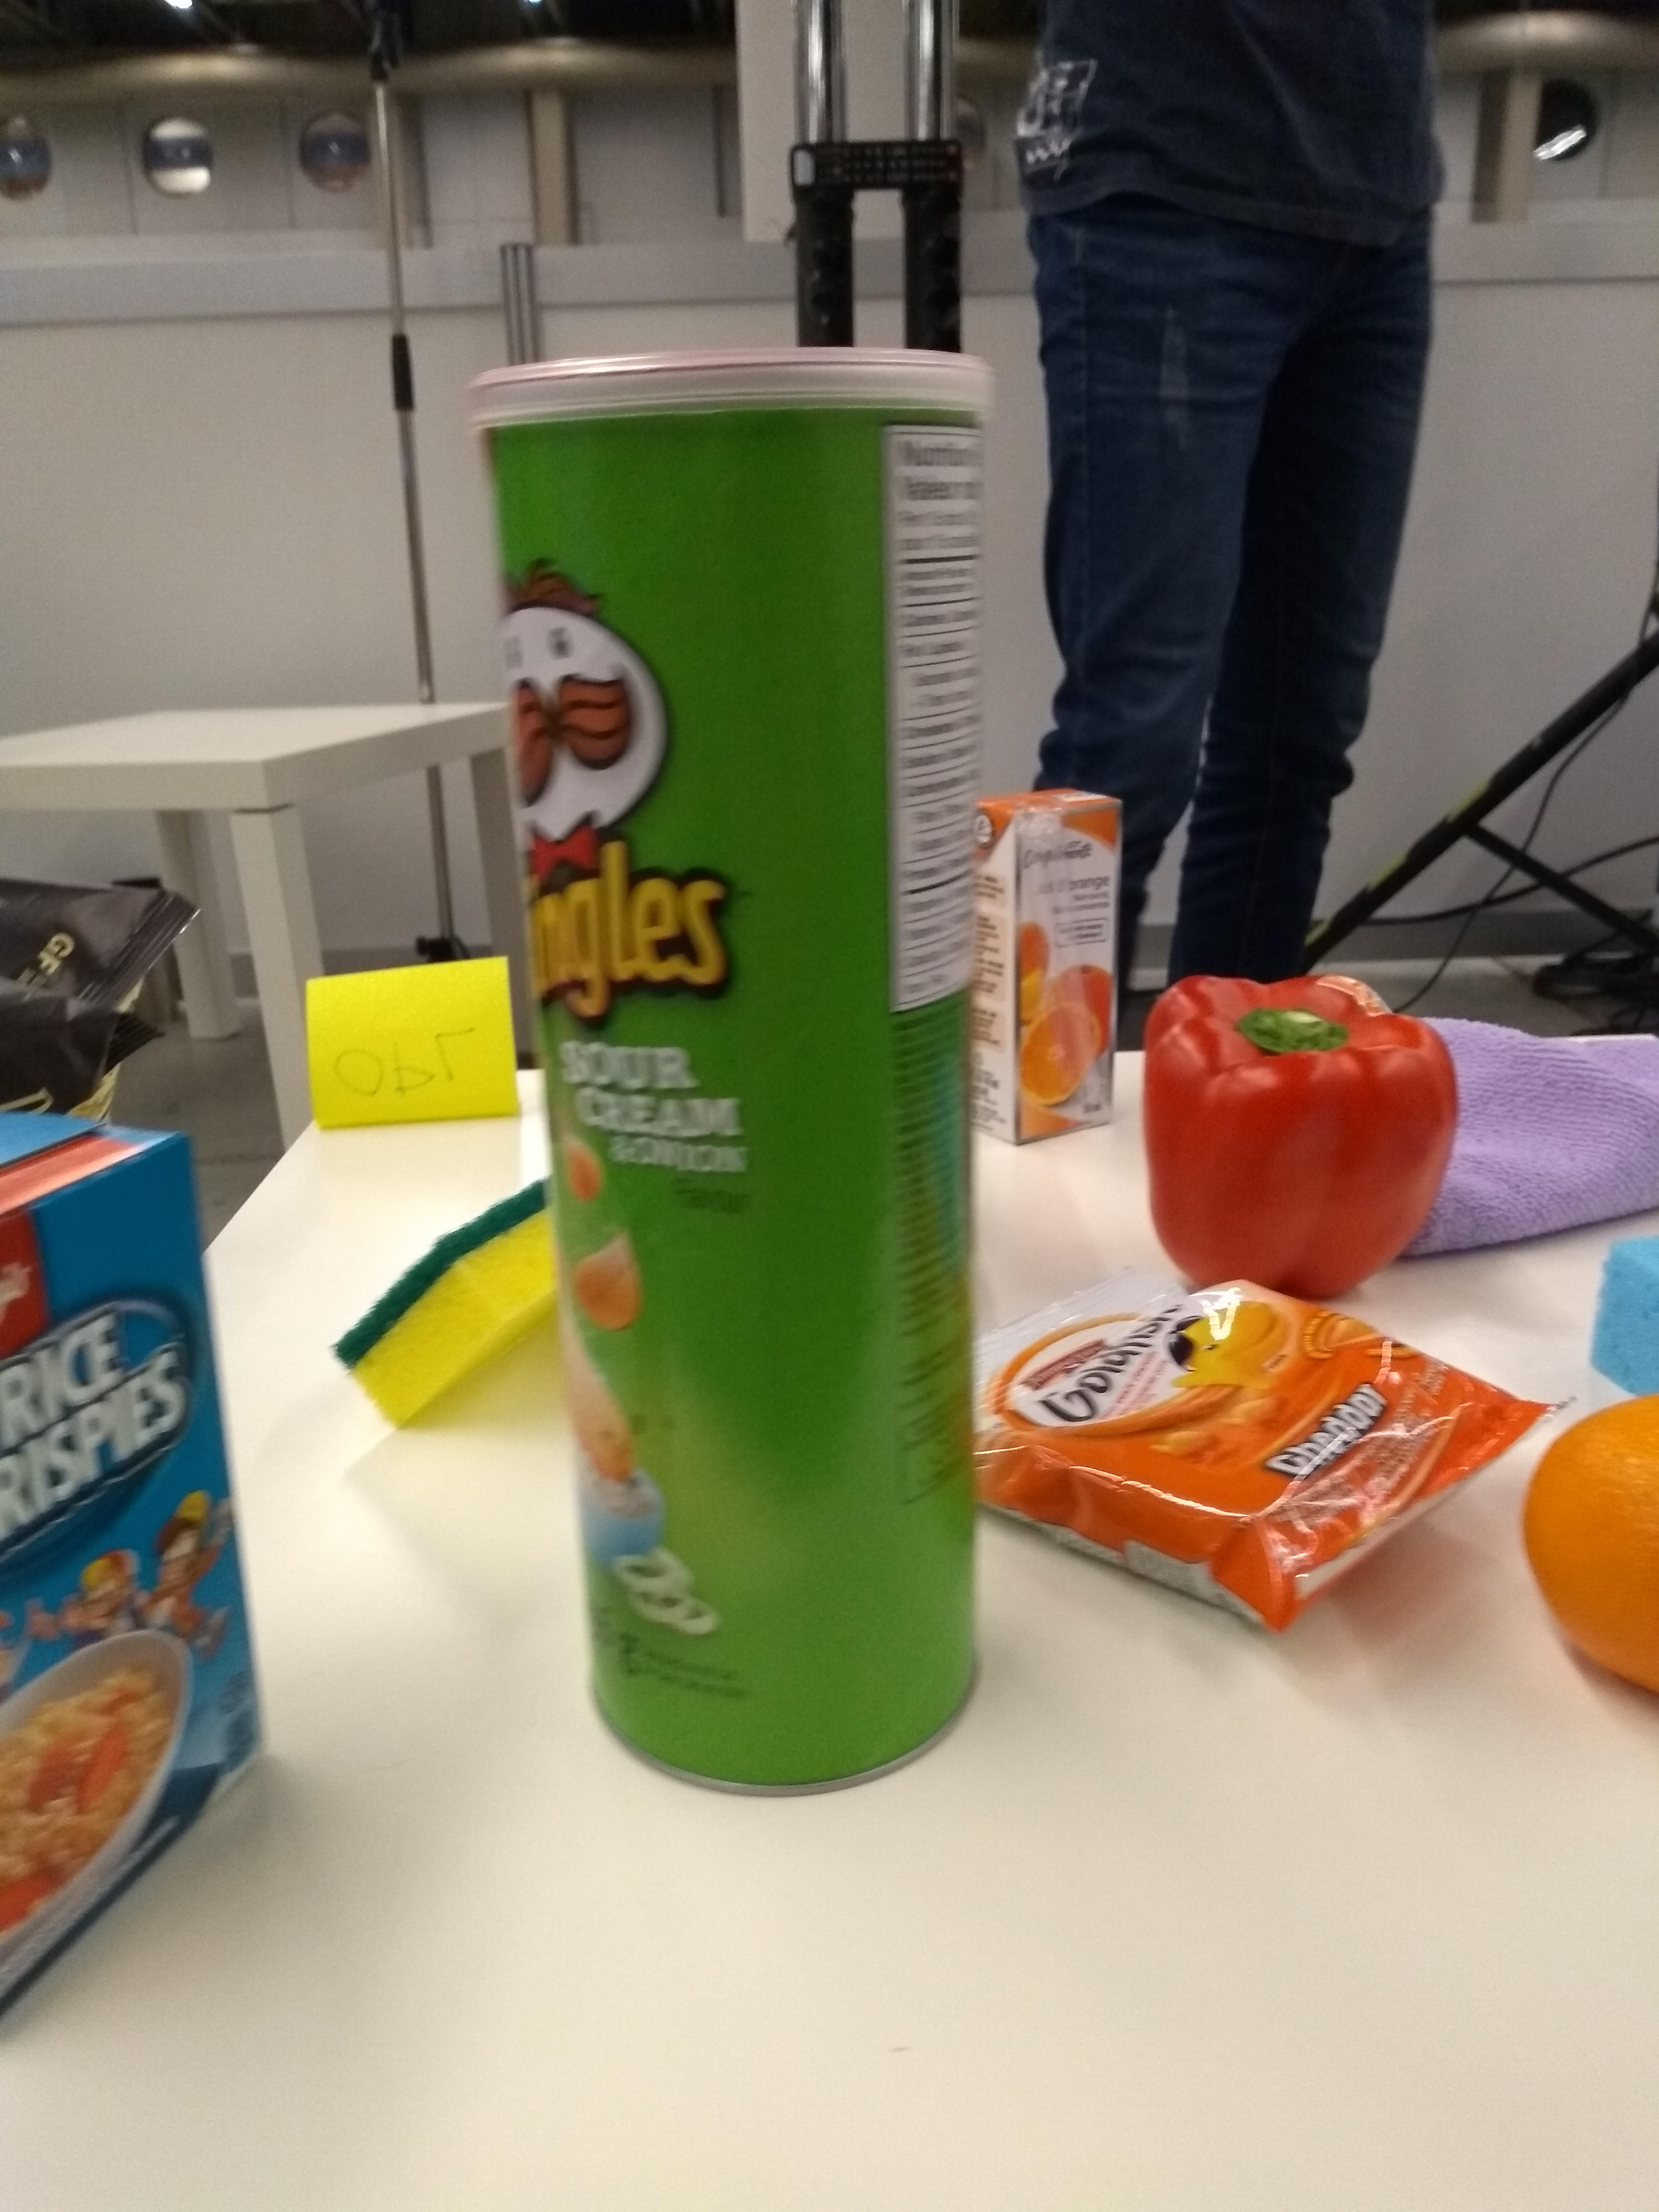cereal: (0, 1099, 268, 2022)
cloth_opl: (1432, 993, 1659, 1251)
crackers: (979, 1271, 1532, 1634)
orange: (1521, 1393, 1659, 1695)
orange_juice: (971, 784, 1126, 1158)
paprika: (1141, 960, 1457, 1320)
pringles: (472, 347, 992, 1796)
scrubby: (322, 1179, 568, 1461)
